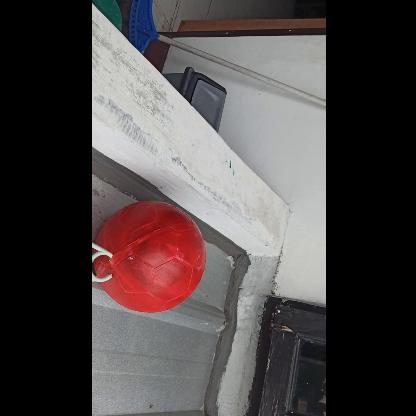red_ball: (94, 202, 206, 316)
